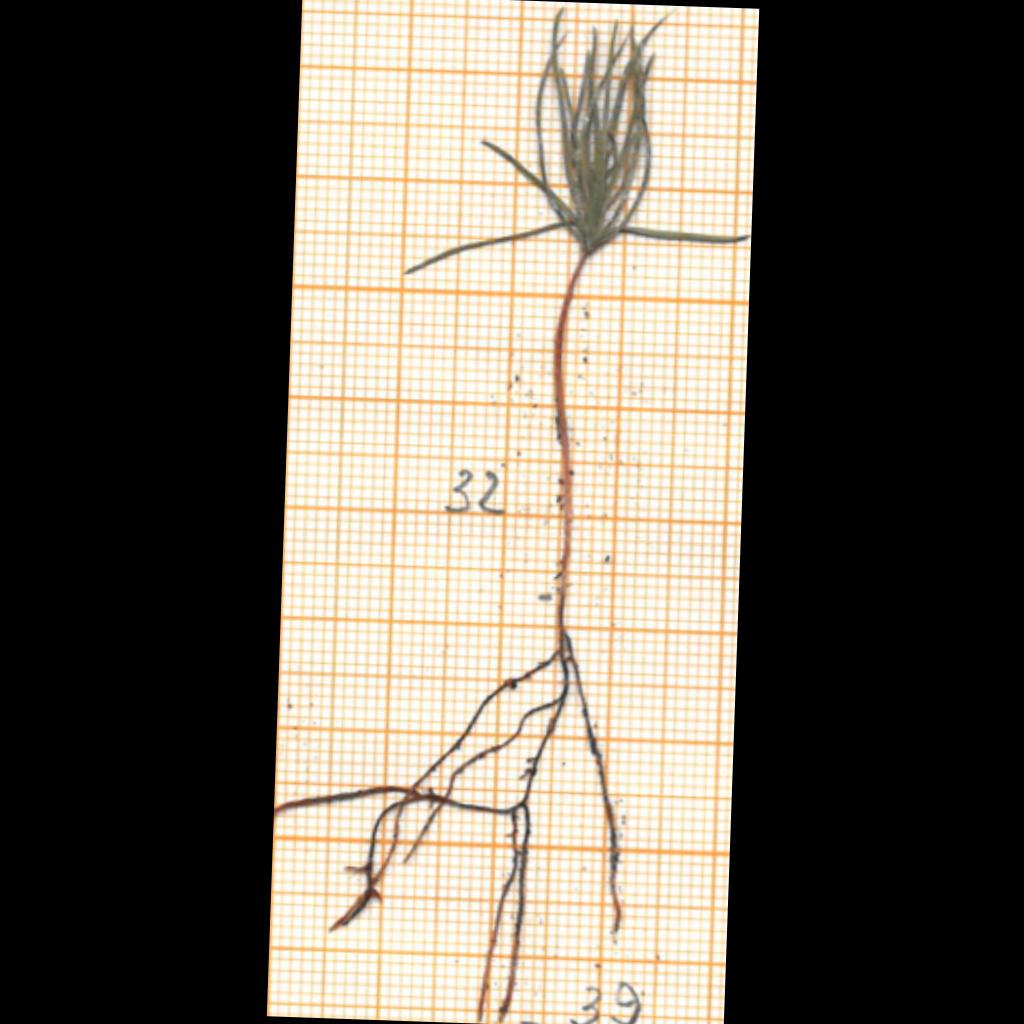flowerCedr: (483, 12, 737, 257)
rootCedr: (274, 604, 622, 1023)
stemCedr: (554, 254, 586, 596)
